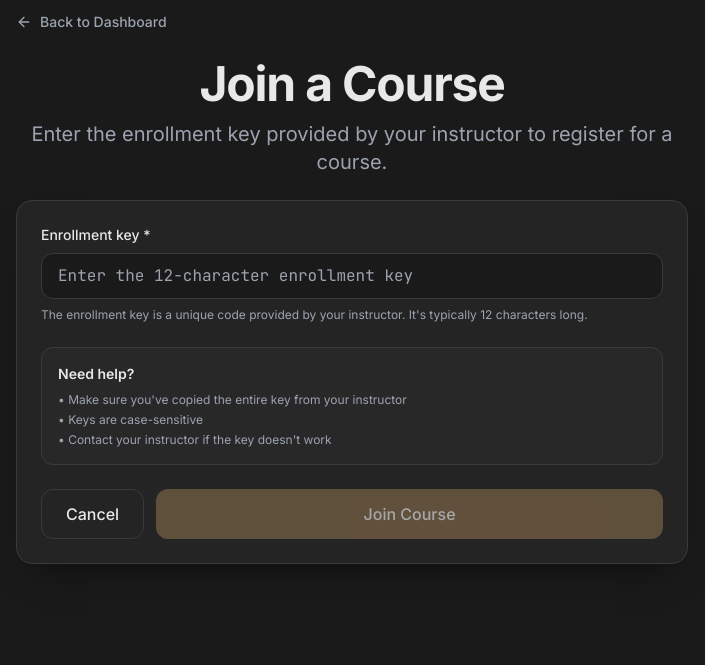
Test: JoinCoursePage › joins course successfully
Step 1. Type "ABC123XYZ789" into the field labelled "Enrollment key *" → (352, 276), box left=41, top=253, right=663, bottom=299
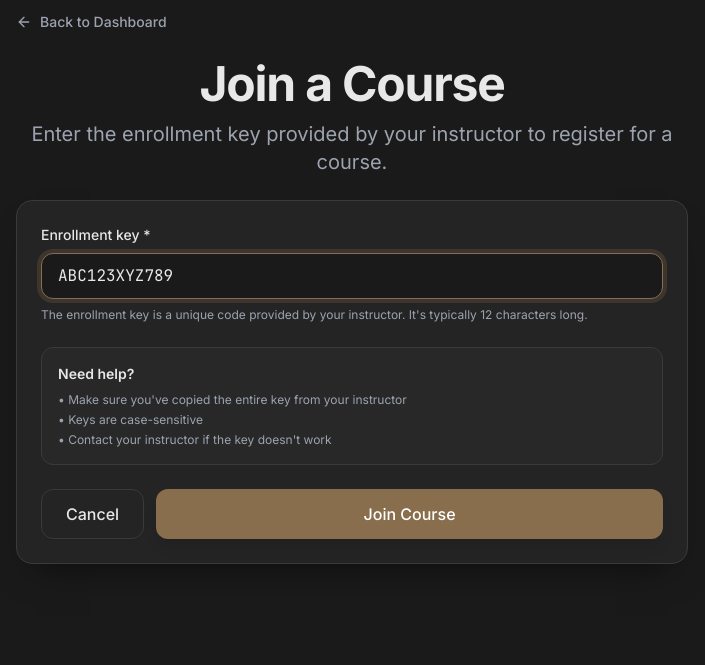
Step 2. Click the button "Join Course" → (410, 514), box left=156, top=489, right=663, bottom=539
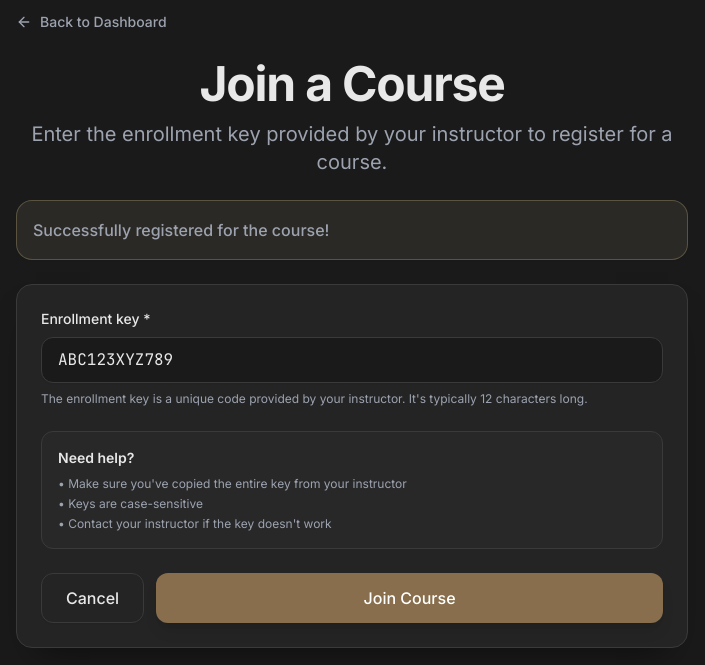
Expected: the text "Successfully registered for the course!" is shown, left=33, top=220, right=330, bottom=240
